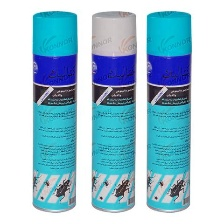aerosol_cans: (86, 8, 138, 215), (29, 6, 80, 216), (143, 7, 193, 214)
